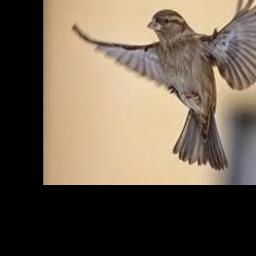Sparrow: (73, 0, 256, 170)
